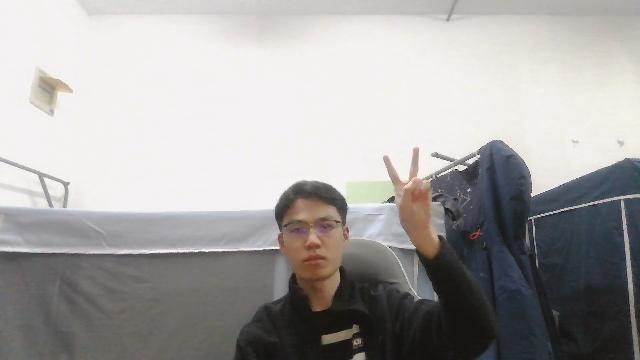two: (380, 146, 433, 231)
